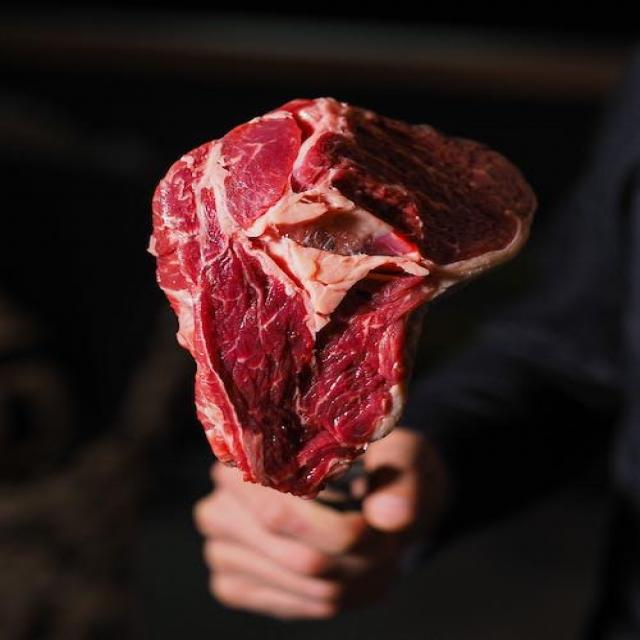Beef: (75, 92, 559, 466)
